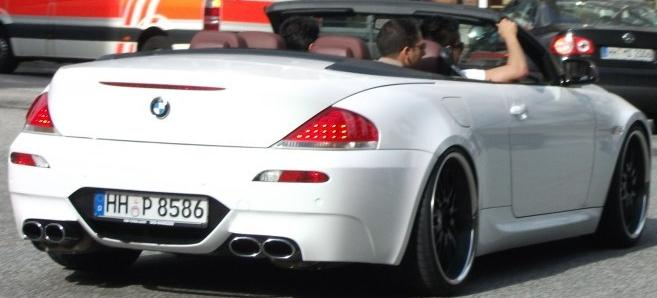back_view: (12, 56, 404, 268)
backlight: (274, 101, 382, 158)
